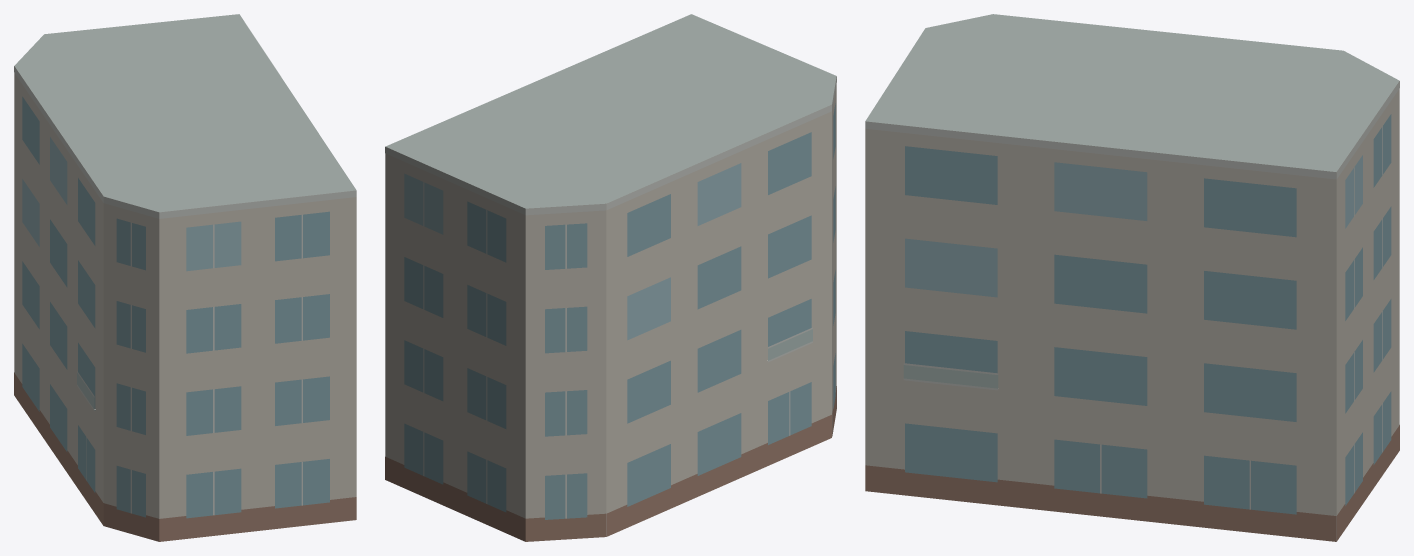
Rendered from survey-upis-32825660.glb.
The picture shows the model from 3 angles, left to right: view 1: azimuth 30°, elevation 25°; view 2: azimuth 150°, elevation 25°; view 3: azimuth 270°, elevation 25°; orthographic projection. The views are drawn at different scales.
Parts seen in each view (by area): view 1: survey-upis-32825660.tmp; view 2: survey-upis-32825660.tmp; view 3: survey-upis-32825660.tmp.
Boxes of the visible parts, <box> form: survey-upis-32825660.tmp: <box>14,14,356,541</box>; survey-upis-32825660.tmp: <box>385,14,836,541</box>; survey-upis-32825660.tmp: <box>865,14,1399,541</box>.
Bounding box in the file's own units: 11.2 × 12.2 × 16.
